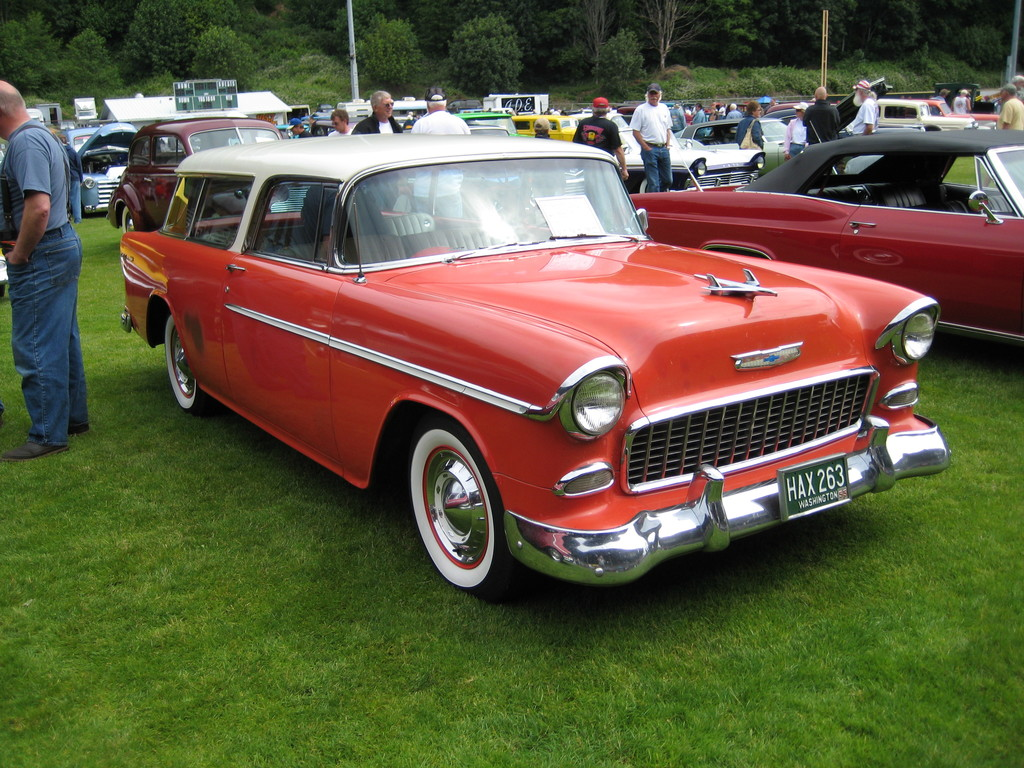mobil: (113, 133, 968, 617)
